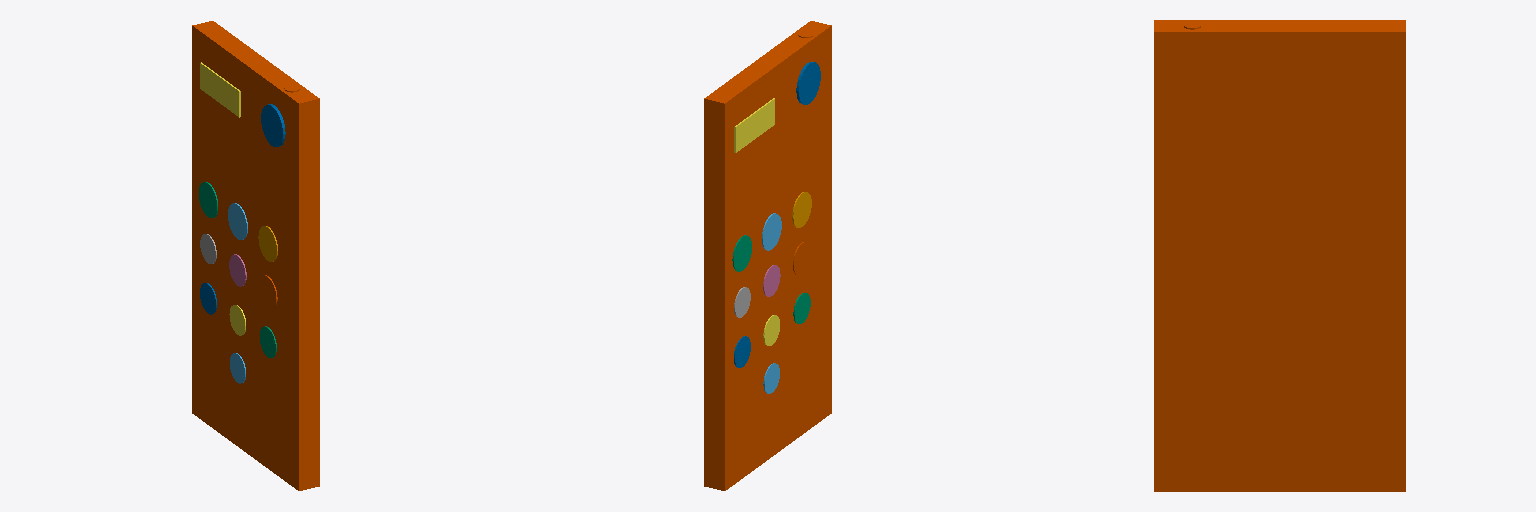
The robot description file, URDF, robot "partnet_c2540a2e0b927f34453782ca938ffcf1":
<?xml version="1.0" ?>
<robot name="partnet_c2540a2e0b927f34453782ca938ffcf1">
	<link name="base"/>
	<link name="link_0">
		<visual name="button-1">
			<origin xyz="0 0 0"/>
			<geometry>
				<mesh filename="textured_objs/original-30.obj"/>
			</geometry>
		</visual>
		<visual name="button-1">
			<origin xyz="0 0 0"/>
			<geometry>
				<mesh filename="textured_objs/original-13.obj"/>
			</geometry>
		</visual>
		<visual name="button-1">
			<origin xyz="0 0 0"/>
			<geometry>
				<mesh filename="textured_objs/original-14.obj"/>
			</geometry>
		</visual>
		<collision>
			<origin xyz="0 0 0"/>
			<geometry>
				<mesh filename="textured_objs/original-30.obj"/>
			</geometry>
		</collision>
		<collision>
			<origin xyz="0 0 0"/>
			<geometry>
				<mesh filename="textured_objs/original-13.obj"/>
			</geometry>
		</collision>
		<collision>
			<origin xyz="0 0 0"/>
			<geometry>
				<mesh filename="textured_objs/original-14.obj"/>
			</geometry>
		</collision>
	</link>
	<joint name="joint_0" type="prismatic">
		<origin xyz="0 0 0"/>
		<axis xyz="0 0 -1"/>
		<child link="link_0"/>
		<parent link="link_12"/>
		<limit lower="0" upper="0.005"/>
	</joint>
	<link name="link_1">
		<visual name="button-2">
			<origin xyz="0 0 0"/>
			<geometry>
				<mesh filename="textured_objs/original-29.obj"/>
			</geometry>
		</visual>
		<visual name="button-2">
			<origin xyz="0 0 0"/>
			<geometry>
				<mesh filename="textured_objs/original-11.obj"/>
			</geometry>
		</visual>
		<visual name="button-2">
			<origin xyz="0 0 0"/>
			<geometry>
				<mesh filename="textured_objs/original-12.obj"/>
			</geometry>
		</visual>
		<collision>
			<origin xyz="0 0 0"/>
			<geometry>
				<mesh filename="textured_objs/original-29.obj"/>
			</geometry>
		</collision>
		<collision>
			<origin xyz="0 0 0"/>
			<geometry>
				<mesh filename="textured_objs/original-11.obj"/>
			</geometry>
		</collision>
		<collision>
			<origin xyz="0 0 0"/>
			<geometry>
				<mesh filename="textured_objs/original-12.obj"/>
			</geometry>
		</collision>
	</link>
	<joint name="joint_1" type="prismatic">
		<origin xyz="0 0 0"/>
		<axis xyz="0 0 -1"/>
		<child link="link_1"/>
		<parent link="link_12"/>
		<limit lower="0" upper="0.005"/>
	</joint>
	<link name="link_2">
		<visual name="button-3">
			<origin xyz="0 0 0"/>
			<geometry>
				<mesh filename="textured_objs/original-28.obj"/>
			</geometry>
		</visual>
		<visual name="button-3">
			<origin xyz="0 0 0"/>
			<geometry>
				<mesh filename="textured_objs/original-15.obj"/>
			</geometry>
		</visual>
		<visual name="button-3">
			<origin xyz="0 0 0"/>
			<geometry>
				<mesh filename="textured_objs/original-16.obj"/>
			</geometry>
		</visual>
		<collision>
			<origin xyz="0 0 0"/>
			<geometry>
				<mesh filename="textured_objs/original-28.obj"/>
			</geometry>
		</collision>
		<collision>
			<origin xyz="0 0 0"/>
			<geometry>
				<mesh filename="textured_objs/original-15.obj"/>
			</geometry>
		</collision>
		<collision>
			<origin xyz="0 0 0"/>
			<geometry>
				<mesh filename="textured_objs/original-16.obj"/>
			</geometry>
		</collision>
	</link>
	<joint name="joint_2" type="prismatic">
		<origin xyz="0 0 0"/>
		<axis xyz="0 0 -1"/>
		<child link="link_2"/>
		<parent link="link_12"/>
		<limit lower="0" upper="0.005"/>
	</joint>
	<link name="link_3">
		<visual name="button-4">
			<origin xyz="0 0 0"/>
			<geometry>
				<mesh filename="textured_objs/original-19.obj"/>
			</geometry>
		</visual>
		<visual name="button-4">
			<origin xyz="0 0 0"/>
			<geometry>
				<mesh filename="textured_objs/original-20.obj"/>
			</geometry>
		</visual>
		<collision>
			<origin xyz="0 0 0"/>
			<geometry>
				<mesh filename="textured_objs/original-19.obj"/>
			</geometry>
		</collision>
		<collision>
			<origin xyz="0 0 0"/>
			<geometry>
				<mesh filename="textured_objs/original-20.obj"/>
			</geometry>
		</collision>
	</link>
	<joint name="joint_3" type="prismatic">
		<origin xyz="0 0 0"/>
		<axis xyz="0 0 -1"/>
		<child link="link_3"/>
		<parent link="link_12"/>
		<limit lower="0" upper="0.005"/>
	</joint>
	<link name="link_4">
		<visual name="button-5">
			<origin xyz="0 0 0"/>
			<geometry>
				<mesh filename="textured_objs/original-27.obj"/>
			</geometry>
		</visual>
		<visual name="button-5">
			<origin xyz="0 0 0"/>
			<geometry>
				<mesh filename="textured_objs/original-9.obj"/>
			</geometry>
		</visual>
		<visual name="button-5">
			<origin xyz="0 0 0"/>
			<geometry>
				<mesh filename="textured_objs/original-10.obj"/>
			</geometry>
		</visual>
		<collision>
			<origin xyz="0 0 0"/>
			<geometry>
				<mesh filename="textured_objs/original-27.obj"/>
			</geometry>
		</collision>
		<collision>
			<origin xyz="0 0 0"/>
			<geometry>
				<mesh filename="textured_objs/original-9.obj"/>
			</geometry>
		</collision>
		<collision>
			<origin xyz="0 0 0"/>
			<geometry>
				<mesh filename="textured_objs/original-10.obj"/>
			</geometry>
		</collision>
	</link>
	<joint name="joint_4" type="prismatic">
		<origin xyz="0 0 0"/>
		<axis xyz="0 0 -1"/>
		<child link="link_4"/>
		<parent link="link_12"/>
		<limit lower="0" upper="0.005"/>
	</joint>
	<link name="link_5">
		<visual name="button-6">
			<origin xyz="0 0 0"/>
			<geometry>
				<mesh filename="textured_objs/original-17.obj"/>
			</geometry>
		</visual>
		<visual name="button-6">
			<origin xyz="0 0 0"/>
			<geometry>
				<mesh filename="textured_objs/original-18.obj"/>
			</geometry>
		</visual>
		<collision>
			<origin xyz="0 0 0"/>
			<geometry>
				<mesh filename="textured_objs/original-17.obj"/>
			</geometry>
		</collision>
		<collision>
			<origin xyz="0 0 0"/>
			<geometry>
				<mesh filename="textured_objs/original-18.obj"/>
			</geometry>
		</collision>
	</link>
	<joint name="joint_5" type="prismatic">
		<origin xyz="0 0 0"/>
		<axis xyz="0 0 -1"/>
		<child link="link_5"/>
		<parent link="link_12"/>
		<limit lower="0" upper="0.005"/>
	</joint>
	<link name="link_6">
		<visual name="button-7">
			<origin xyz="0 0 0"/>
			<geometry>
				<mesh filename="textured_objs/original-21.obj"/>
			</geometry>
		</visual>
		<visual name="button-7">
			<origin xyz="0 0 0"/>
			<geometry>
				<mesh filename="textured_objs/original-22.obj"/>
			</geometry>
		</visual>
		<collision>
			<origin xyz="0 0 0"/>
			<geometry>
				<mesh filename="textured_objs/original-21.obj"/>
			</geometry>
		</collision>
		<collision>
			<origin xyz="0 0 0"/>
			<geometry>
				<mesh filename="textured_objs/original-22.obj"/>
			</geometry>
		</collision>
	</link>
	<joint name="joint_6" type="prismatic">
		<origin xyz="0 0 0"/>
		<axis xyz="0 0 -1"/>
		<child link="link_6"/>
		<parent link="link_12"/>
		<limit lower="0" upper="0.005"/>
	</joint>
	<link name="link_7">
		<visual name="button-8">
			<origin xyz="0 0 0"/>
			<geometry>
				<mesh filename="textured_objs/original-7.obj"/>
			</geometry>
		</visual>
		<visual name="button-8">
			<origin xyz="0 0 0"/>
			<geometry>
				<mesh filename="textured_objs/original-8.obj"/>
			</geometry>
		</visual>
		<collision>
			<origin xyz="0 0 0"/>
			<geometry>
				<mesh filename="textured_objs/original-7.obj"/>
			</geometry>
		</collision>
		<collision>
			<origin xyz="0 0 0"/>
			<geometry>
				<mesh filename="textured_objs/original-8.obj"/>
			</geometry>
		</collision>
	</link>
	<joint name="joint_7" type="prismatic">
		<origin xyz="0 0 0"/>
		<axis xyz="0 0 -1"/>
		<child link="link_7"/>
		<parent link="link_12"/>
		<limit lower="0" upper="0.005"/>
	</joint>
	<link name="link_8">
		<visual name="button-9">
			<origin xyz="0 0 0"/>
			<geometry>
				<mesh filename="textured_objs/original-5.obj"/>
			</geometry>
		</visual>
		<visual name="button-9">
			<origin xyz="0 0 0"/>
			<geometry>
				<mesh filename="textured_objs/original-6.obj"/>
			</geometry>
		</visual>
		<collision>
			<origin xyz="0 0 0"/>
			<geometry>
				<mesh filename="textured_objs/original-5.obj"/>
			</geometry>
		</collision>
		<collision>
			<origin xyz="0 0 0"/>
			<geometry>
				<mesh filename="textured_objs/original-6.obj"/>
			</geometry>
		</collision>
	</link>
	<joint name="joint_8" type="prismatic">
		<origin xyz="0 0 0"/>
		<axis xyz="0 0 -1"/>
		<child link="link_8"/>
		<parent link="link_12"/>
		<limit lower="0" upper="0.005"/>
	</joint>
	<link name="link_9">
		<visual name="button-10">
			<origin xyz="0 0 0"/>
			<geometry>
				<mesh filename="textured_objs/original-23.obj"/>
			</geometry>
		</visual>
		<visual name="button-10">
			<origin xyz="0 0 0"/>
			<geometry>
				<mesh filename="textured_objs/original-24.obj"/>
			</geometry>
		</visual>
		<collision>
			<origin xyz="0 0 0"/>
			<geometry>
				<mesh filename="textured_objs/original-23.obj"/>
			</geometry>
		</collision>
		<collision>
			<origin xyz="0 0 0"/>
			<geometry>
				<mesh filename="textured_objs/original-24.obj"/>
			</geometry>
		</collision>
	</link>
	<joint name="joint_9" type="prismatic">
		<origin xyz="0 0 0"/>
		<axis xyz="0 0 -1"/>
		<child link="link_9"/>
		<parent link="link_12"/>
		<limit lower="0" upper="0.005"/>
	</joint>
	<link name="link_10">
		<visual name="button-11">
			<origin xyz="0 0 0"/>
			<geometry>
				<mesh filename="textured_objs/original-25.obj"/>
			</geometry>
		</visual>
		<collision>
			<origin xyz="0 0 0"/>
			<geometry>
				<mesh filename="textured_objs/original-25.obj"/>
			</geometry>
		</collision>
	</link>
	<joint name="joint_10" type="prismatic">
		<origin xyz="0 0 0"/>
		<axis xyz="0 0 -1"/>
		<child link="link_10"/>
		<parent link="link_12"/>
		<limit lower="0" upper="0.005"/>
	</joint>
	<link name="link_11">
		<visual name="button-12">
			<origin xyz="0 0 0"/>
			<geometry>
				<mesh filename="textured_objs/original-31.obj"/>
			</geometry>
		</visual>
		<visual name="button-12">
			<origin xyz="0 0 0"/>
			<geometry>
				<mesh filename="textured_objs/original-2.obj"/>
			</geometry>
		</visual>
		<collision>
			<origin xyz="0 0 0"/>
			<geometry>
				<mesh filename="textured_objs/original-31.obj"/>
			</geometry>
		</collision>
		<collision>
			<origin xyz="0 0 0"/>
			<geometry>
				<mesh filename="textured_objs/original-2.obj"/>
			</geometry>
		</collision>
	</link>
	<joint name="joint_11" type="prismatic">
		<origin xyz="0 0 0"/>
		<axis xyz="0 0 -1"/>
		<child link="link_11"/>
		<parent link="link_12"/>
		<limit lower="0" upper="0.005"/>
	</joint>
	<link name="link_12">
		<visual name="base_body-13">
			<origin xyz="0 0 0"/>
			<geometry>
				<mesh filename="textured_objs/original-26.obj"/>
			</geometry>
		</visual>
		<visual name="base_body-13">
			<origin xyz="0 0 0"/>
			<geometry>
				<mesh filename="textured_objs/original-4.obj"/>
			</geometry>
		</visual>
		<visual name="base_body-13">
			<origin xyz="0 0 0"/>
			<geometry>
				<mesh filename="textured_objs/original-3.obj"/>
			</geometry>
		</visual>
		<visual name="base_body-13">
			<origin xyz="0 0 0"/>
			<geometry>
				<mesh filename="textured_objs/original-32.obj"/>
			</geometry>
		</visual>
		<visual name="base_body-13">
			<origin xyz="0 0 0"/>
			<geometry>
				<mesh filename="textured_objs/original-1.obj"/>
			</geometry>
		</visual>
		<collision>
			<origin xyz="0 0 0"/>
			<geometry>
				<mesh filename="textured_objs/original-26.obj"/>
			</geometry>
		</collision>
		<collision>
			<origin xyz="0 0 0"/>
			<geometry>
				<mesh filename="textured_objs/original-4.obj"/>
			</geometry>
		</collision>
		<collision>
			<origin xyz="0 0 0"/>
			<geometry>
				<mesh filename="textured_objs/original-3.obj"/>
			</geometry>
		</collision>
		<collision>
			<origin xyz="0 0 0"/>
			<geometry>
				<mesh filename="textured_objs/original-32.obj"/>
			</geometry>
		</collision>
		<collision>
			<origin xyz="0 0 0"/>
			<geometry>
				<mesh filename="textured_objs/original-1.obj"/>
			</geometry>
		</collision>
	</link>
	<joint name="joint_12" type="fixed">
		<origin rpy="1.570796326794897 0 -1.570796326794897" xyz="0 0 0"/>
		<child link="link_12"/>
		<parent link="base"/>
	</joint>
</robot>

--- Facts derived from the render (not from the file) ---
3 views of the same robot in one strip: view 1: azimuth 30°, elevation 25°; view 2: azimuth 150°, elevation 25°; view 3: azimuth 270°, elevation 25° (orthographic).
Robot: partnet_c2540a2e0b927f34453782ca938ffcf1 — 14 links, 13 joints (12 prismatic, 1 fixed); root link base; default pose: every joint at zero.
Visible links, largest first — view 1: link_12, link_10, link_11, link_8, link_9, link_7; view 2: link_12, link_10, link_11, link_8, link_9, link_7; view 3: link_12.
Link boxes in pixels (box(x1,y1,x2,y2)): link_12: box(192, 21, 319, 490); link_10: box(200, 62, 240, 117); link_11: box(261, 104, 285, 146); link_8: box(228, 203, 247, 239); link_9: box(199, 182, 217, 217); link_7: box(258, 226, 277, 261); link_12: box(704, 21, 831, 490); link_10: box(734, 98, 774, 152); link_11: box(796, 62, 820, 104); link_8: box(762, 213, 781, 250); link_9: box(732, 235, 751, 271); link_7: box(792, 192, 811, 227); link_12: box(1154, 20, 1405, 491).
Bounding box of the posed robot: 0.1128 × 0.8956 × 1.8 m (x, y, z).
Meshes: 32 distinct files referenced, 32 mesh visuals loaded (32 OBJ).
